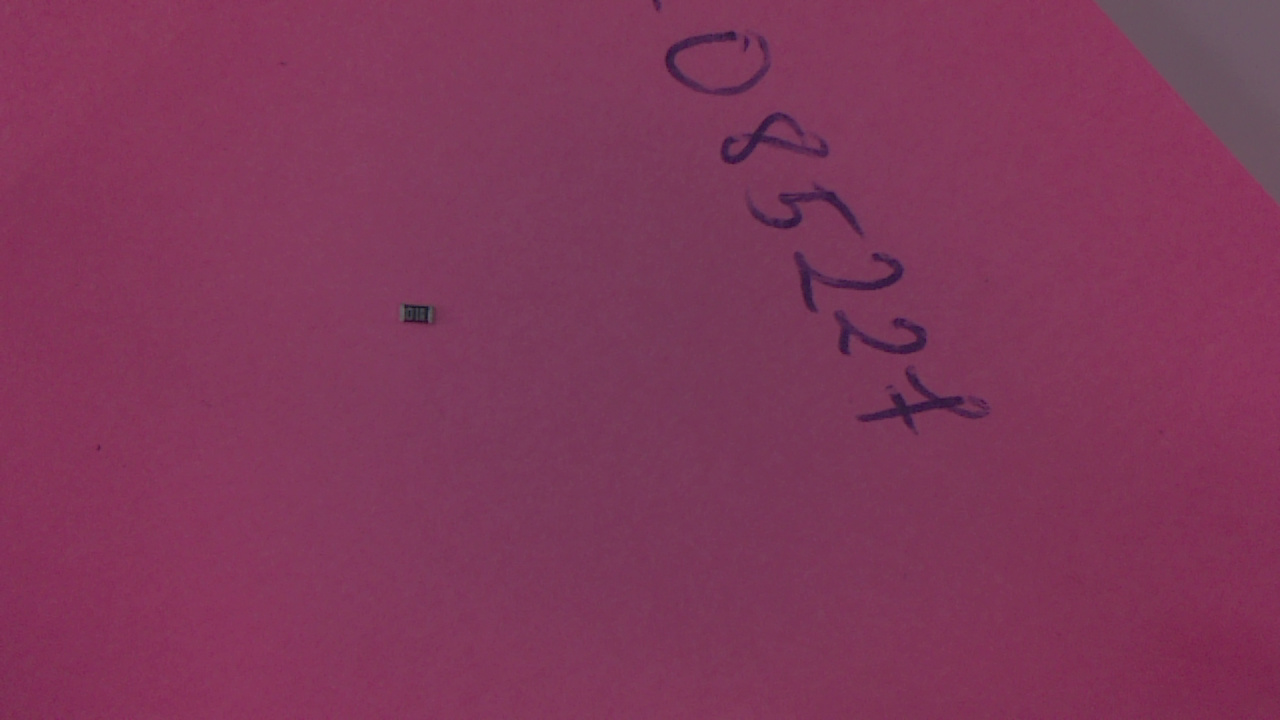Resistor: (402, 305, 446, 333)
